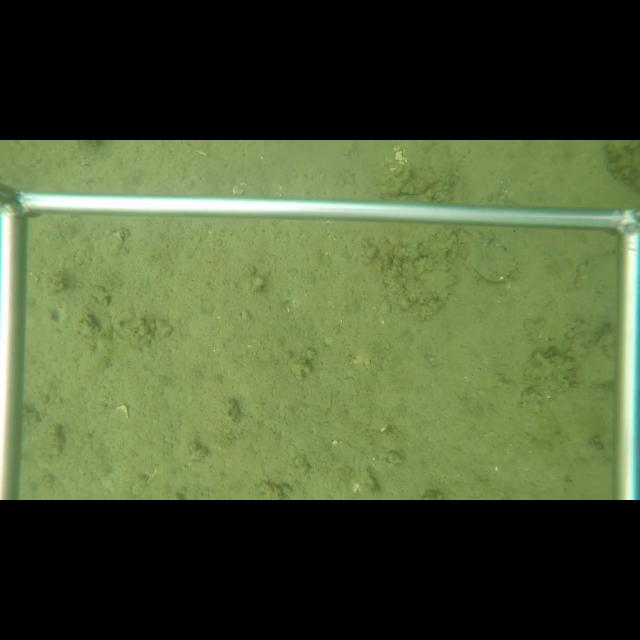Oyster-Closed: (456, 229, 523, 286)
